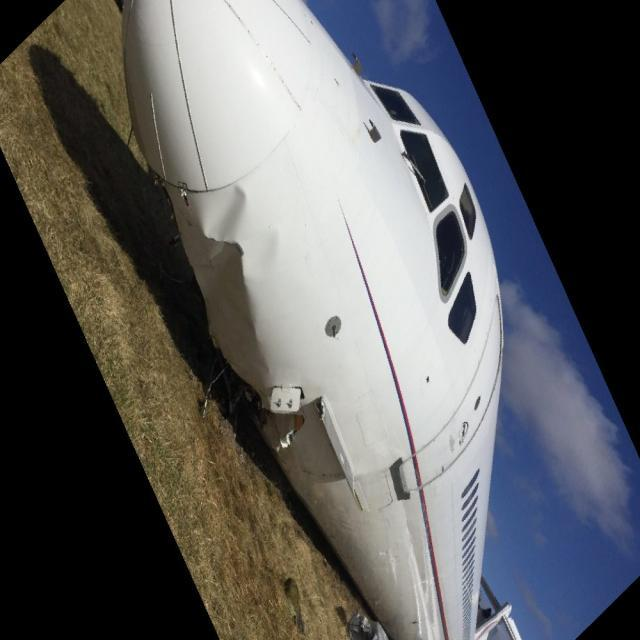dent: (202, 182, 250, 243), (252, 228, 280, 279)
